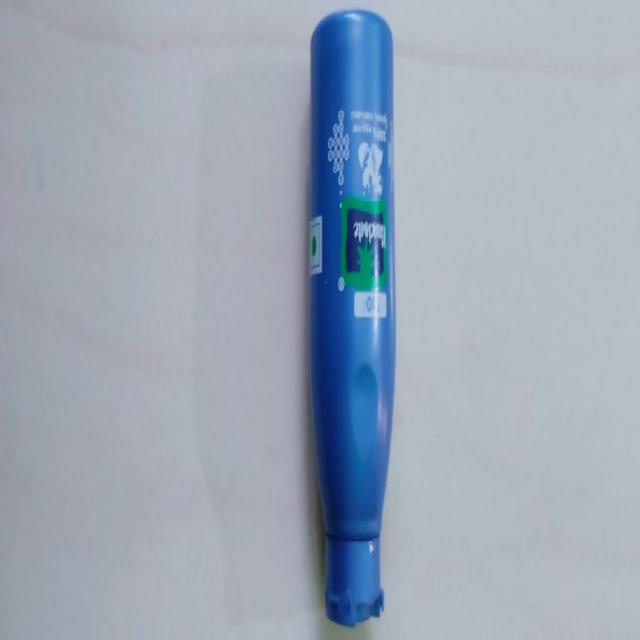oil: (308, 11, 399, 636)
